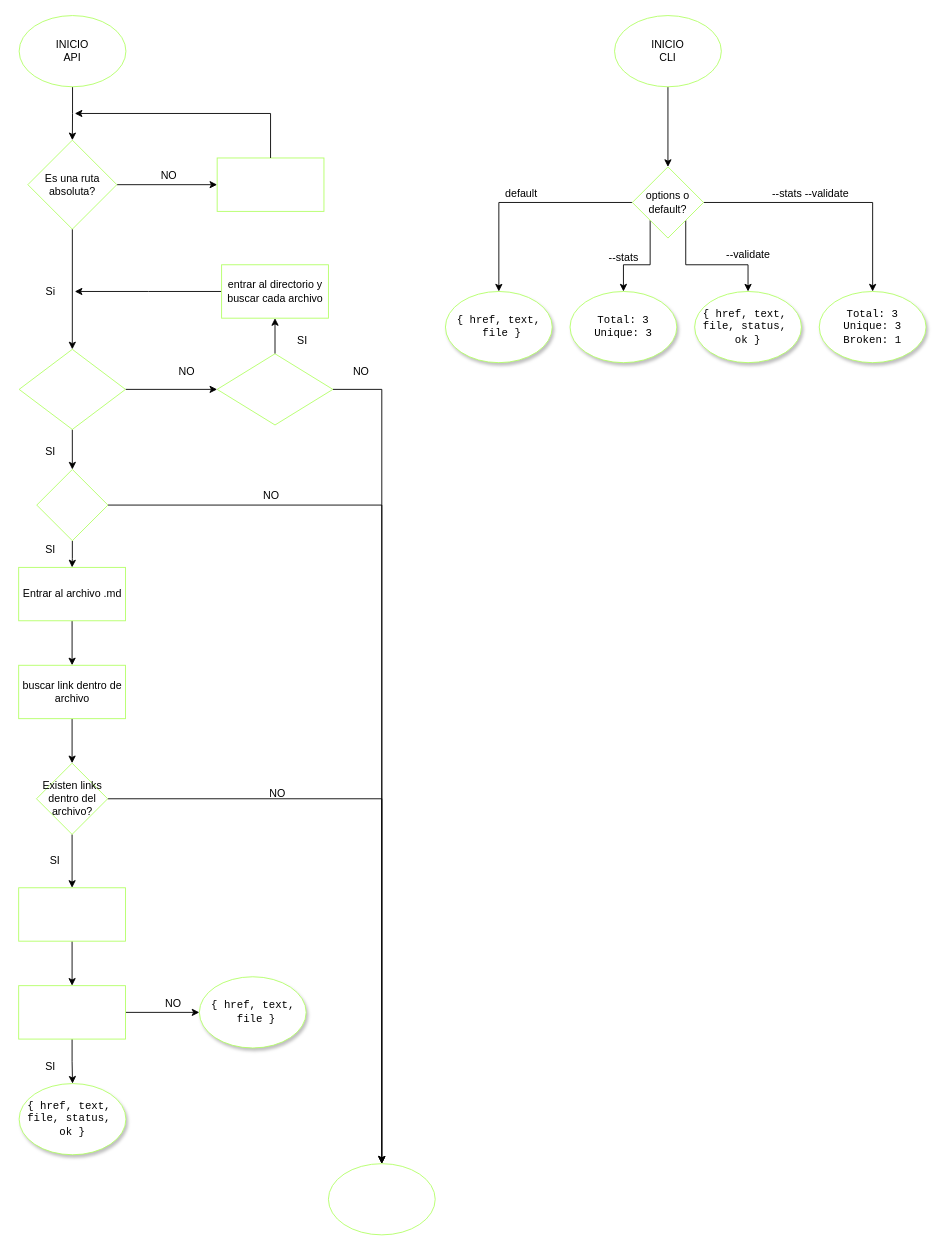
Some shapes in this 947 by 1250 pixel diagram are drawn without their labels. The centre of each missing label's shape, as x and y in pixels:
Convertir en absoluta: point (270, 184)
Es un archivo .md?: point (72, 505)
Es un archivo?: point (71, 388)
Es un directorio?: point (274, 389)
FIN: point (381, 1199)
guardar link dentro de un array: point (71, 914)
validate true: point (71, 1012)
